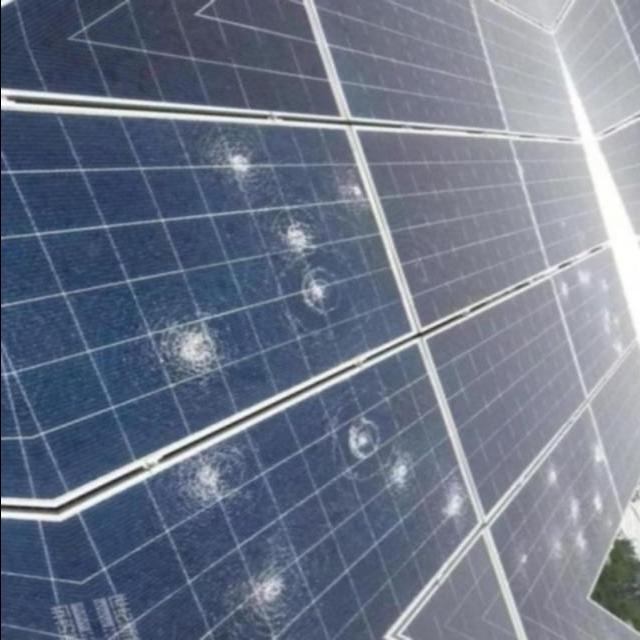cracked: (0, 105, 412, 460), (61, 372, 478, 638), (516, 422, 622, 570), (550, 256, 632, 380)
